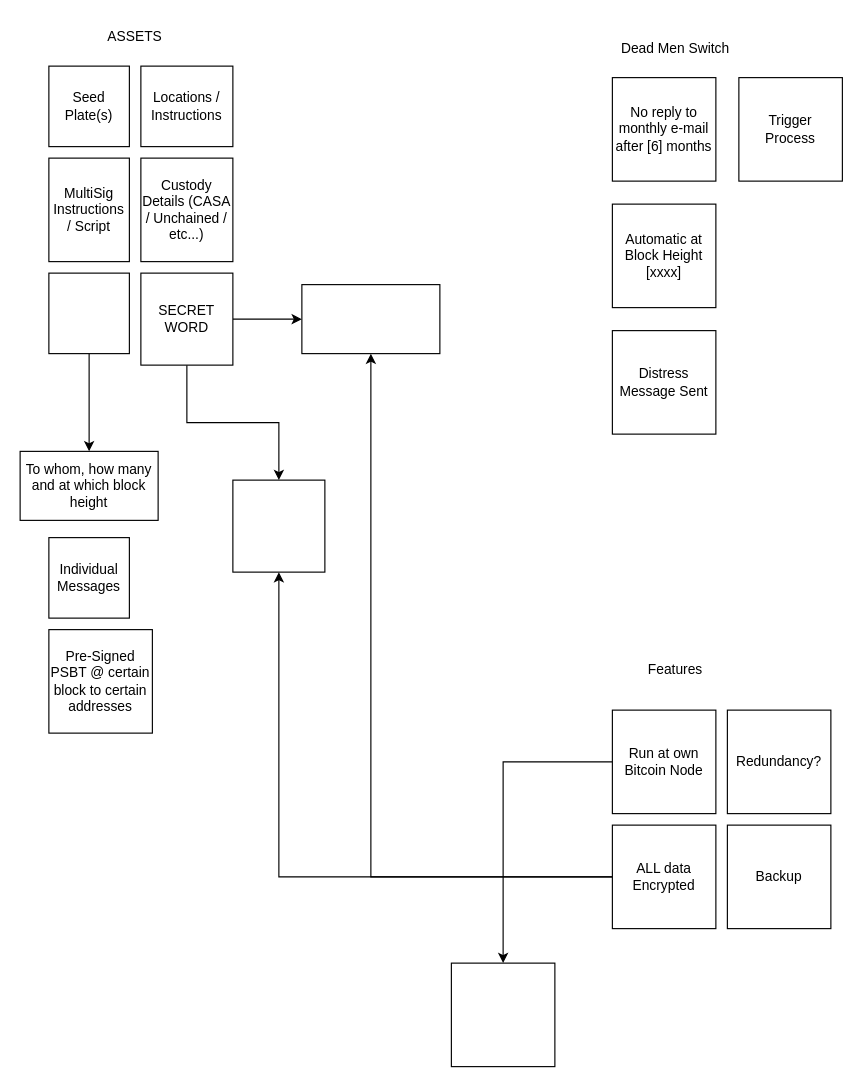
Some shapes in this 863 by 1087 pixel diagram are drawn without their labels. Each missing label, with the box of its shape:
Dead Node? What happens?: (450, 962, 555, 1067)
Distribution Wishes / Directions: (48, 272, 129, 354)
Family: (232, 479, 325, 572)
Personal: (301, 283, 440, 354)
